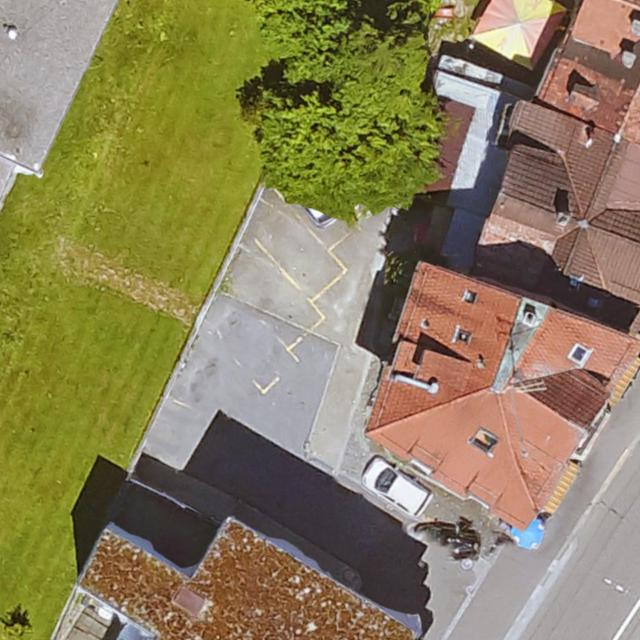tree: (256, 31, 438, 196), (256, 0, 348, 46)
